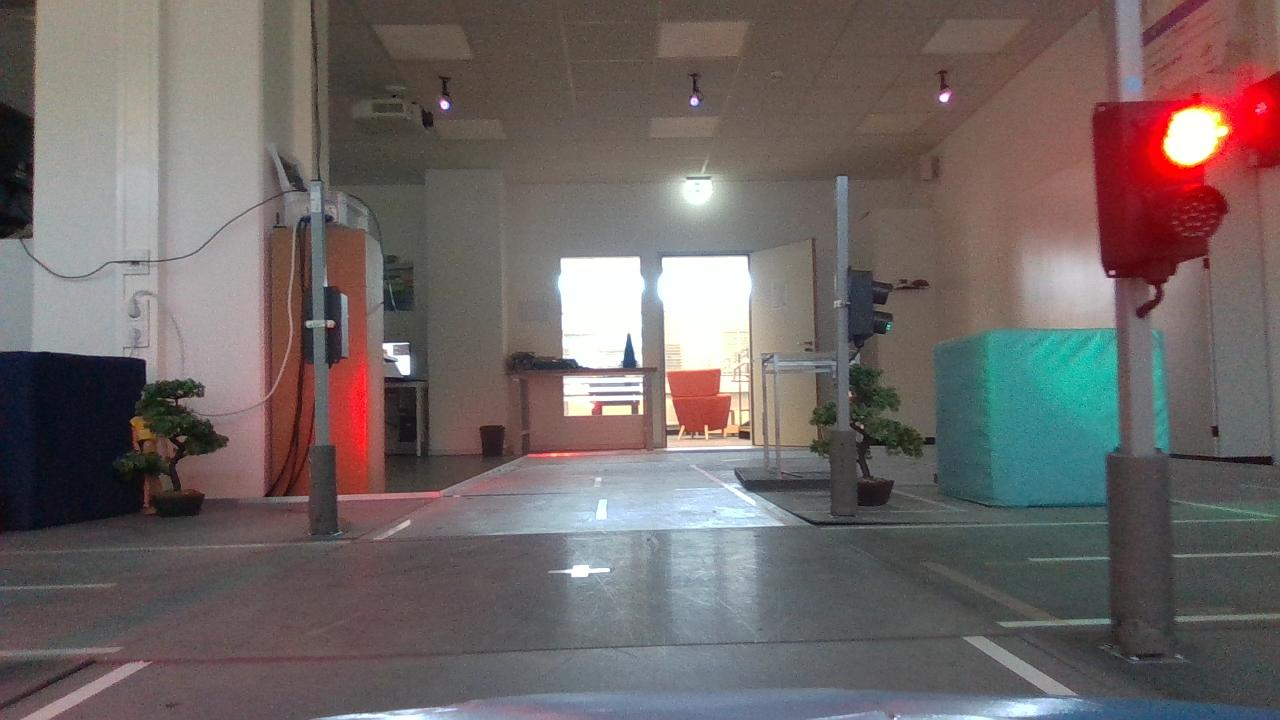traffic_light_red: (1074, 86, 1240, 290)
